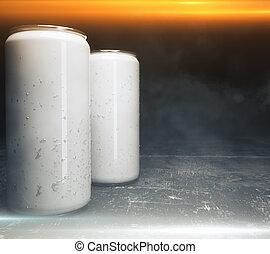metal: (0, 13, 96, 231), (74, 36, 160, 199)
